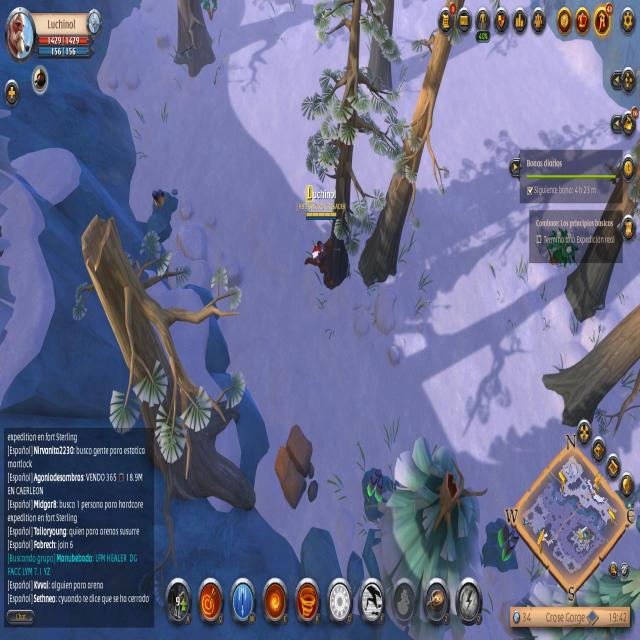piedra_cobre: (146, 178, 183, 226)
